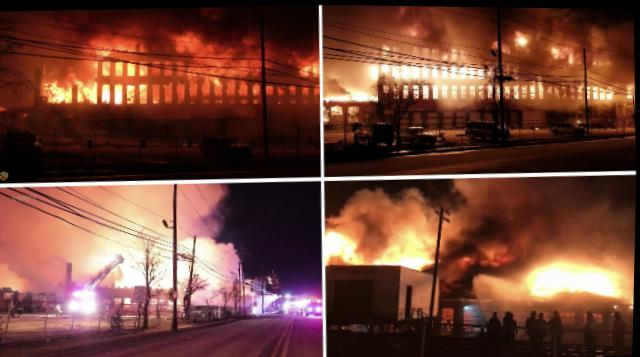fire: (533, 260, 623, 299), (188, 46, 259, 76), (389, 248, 437, 265), (326, 232, 358, 256), (46, 82, 73, 103), (176, 33, 210, 46), (300, 54, 320, 76), (77, 81, 96, 103), (102, 82, 113, 103), (114, 83, 123, 101), (517, 33, 530, 44), (103, 60, 111, 75), (538, 74, 545, 91), (552, 41, 560, 55), (214, 76, 225, 86), (607, 84, 616, 95), (531, 79, 537, 92), (628, 83, 635, 94), (600, 86, 607, 97), (594, 84, 599, 96), (523, 81, 527, 94), (588, 85, 591, 96), (571, 50, 575, 57)
smoke: (327, 169, 636, 233), (0, 180, 226, 241), (444, 220, 635, 263), (0, 4, 215, 40), (323, 4, 556, 34), (214, 3, 321, 47), (0, 35, 86, 77), (180, 236, 246, 286), (440, 260, 522, 299), (558, 7, 635, 44), (0, 236, 96, 264), (325, 32, 366, 86), (526, 96, 635, 116), (0, 261, 66, 290), (358, 227, 442, 248), (586, 43, 634, 67), (0, 77, 37, 108), (453, 31, 492, 59), (560, 66, 631, 81), (190, 290, 239, 308), (517, 53, 555, 70), (145, 35, 174, 52), (436, 98, 479, 109), (72, 262, 92, 282)
